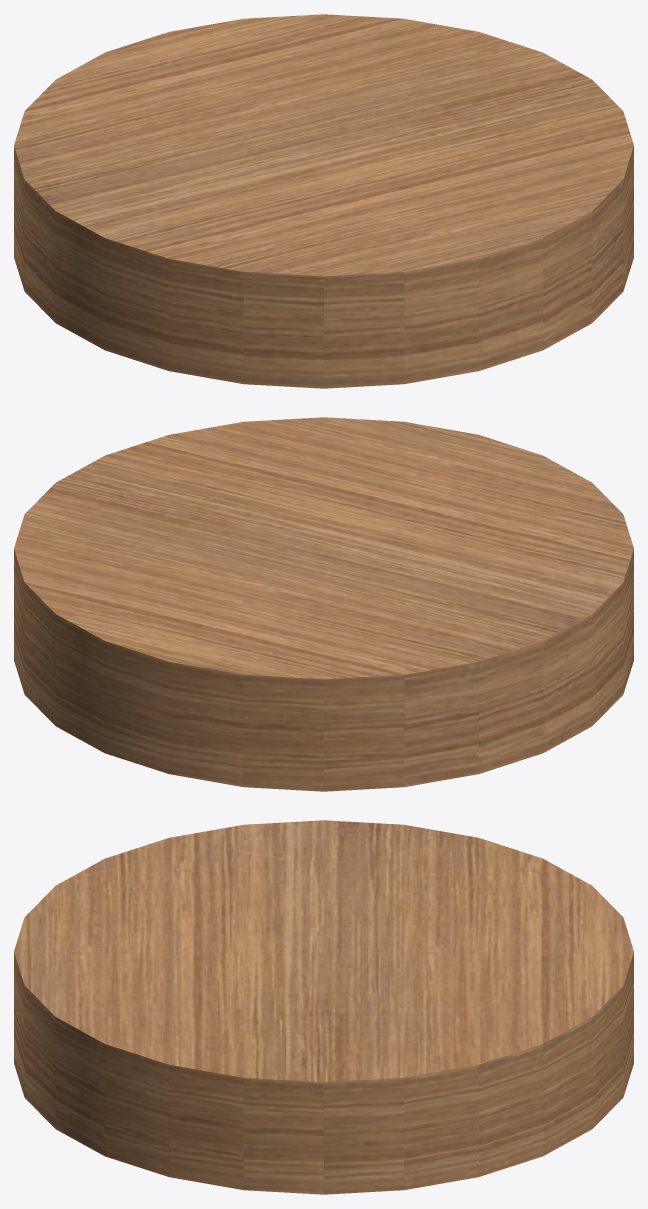
File: circle_oak.fbx
3 renders of one model, top to bottom at view 1: azimuth 30°, elevation 25°; view 2: azimuth 150°, elevation 25°; view 3: azimuth 270°, elevation 25°, orthographic.
Visible parts, largest first — view 1: Model; view 2: Model; view 3: Model.
Part boxes in pixels (x1,y1,x2,y2): Model: (14, 14, 633, 388); Model: (14, 417, 633, 791); Model: (14, 820, 633, 1194).
Bounding box in the file's own units: 5 × 1 × 5.
